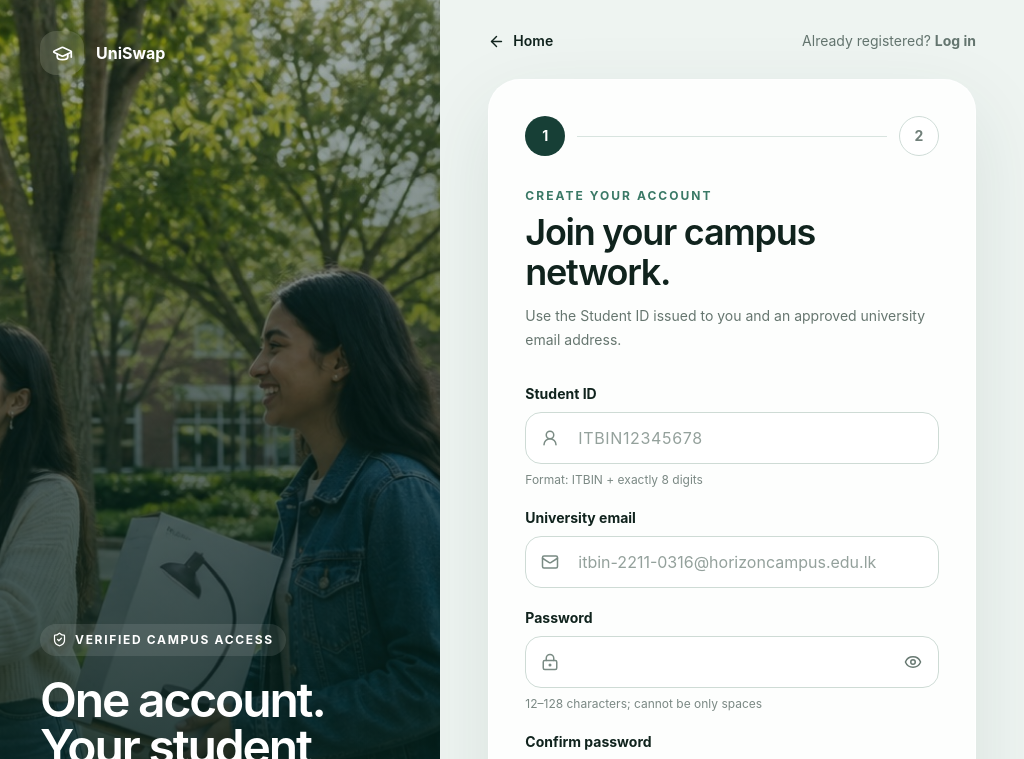
Test: UniSwap public and authentication experience › registers a valid student and transitions to email verification
This screenshot has width=1024, height=759.
Type "itbin12345678" into the field labelled "Student ID" at (732, 438), box [525,412,939,464]
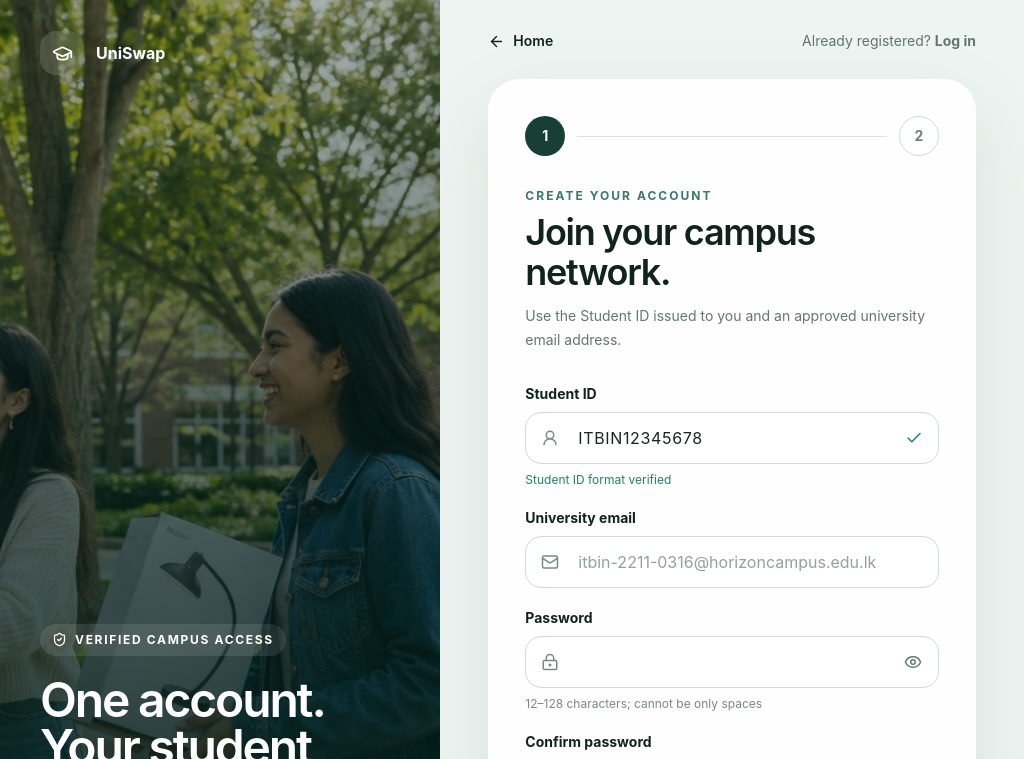
Type "student@campus.edu" into the field labelled "University email" at (732, 562), box [525,536,939,588]
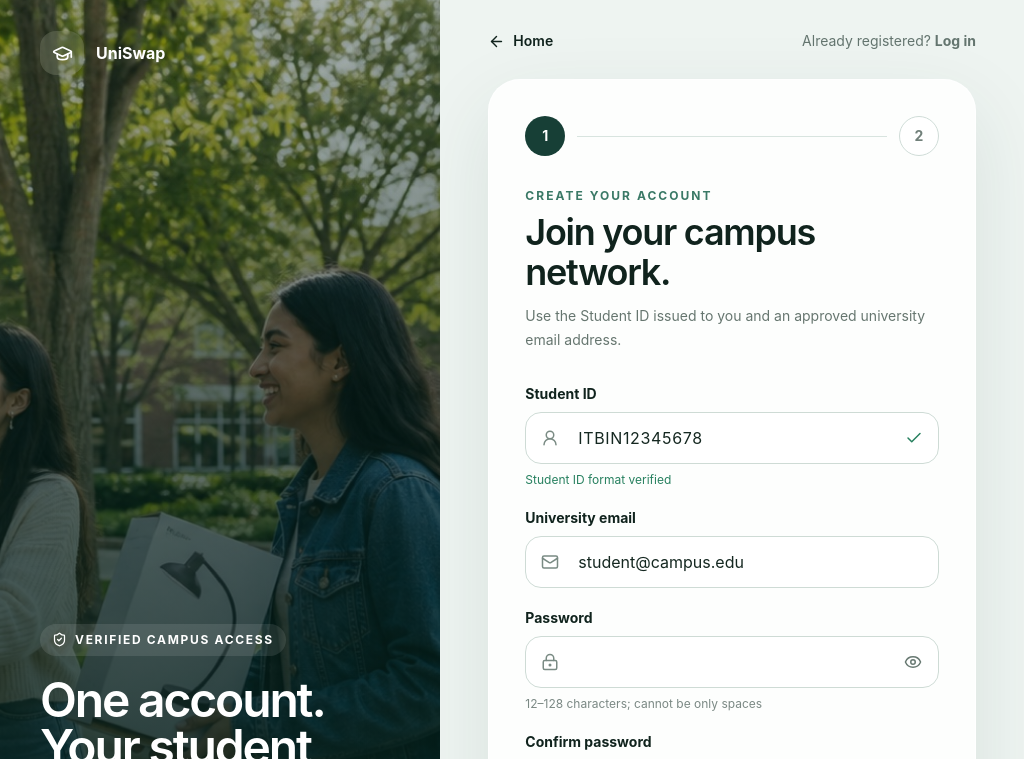
Type "Strong-password-123" into the password field labelled "Password" at (732, 662), box [525,636,939,688]
(page scrolled)
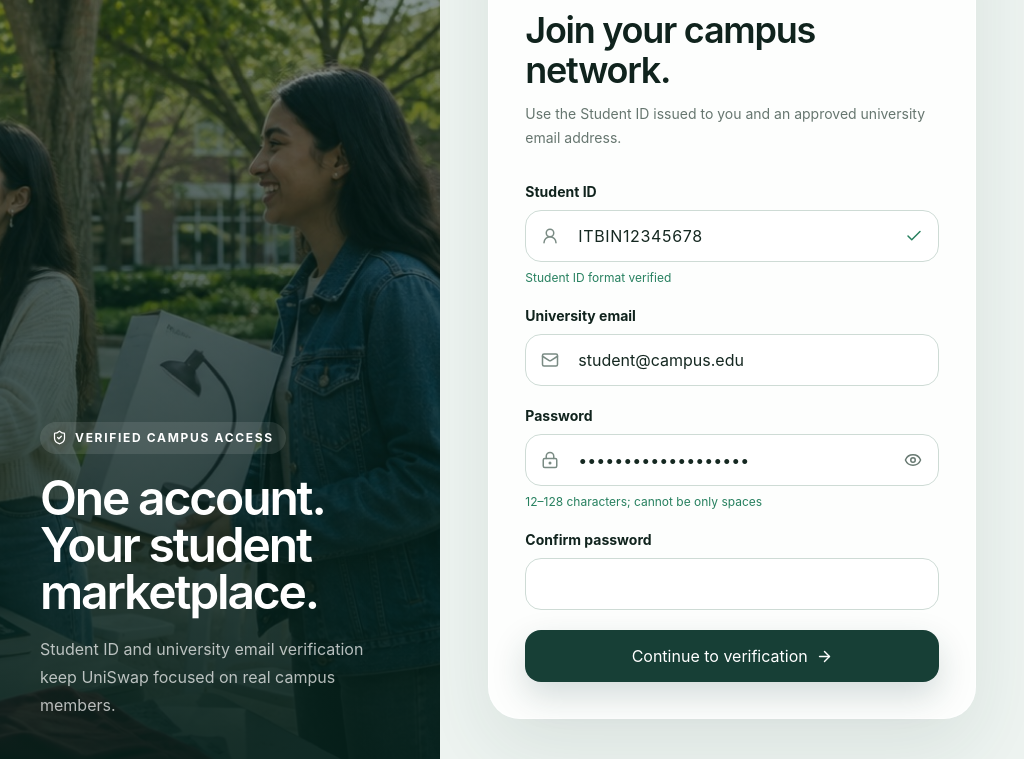
Type "Strong-password-123" into the password field labelled "Confirm password" at (732, 584), box [525,558,939,610]
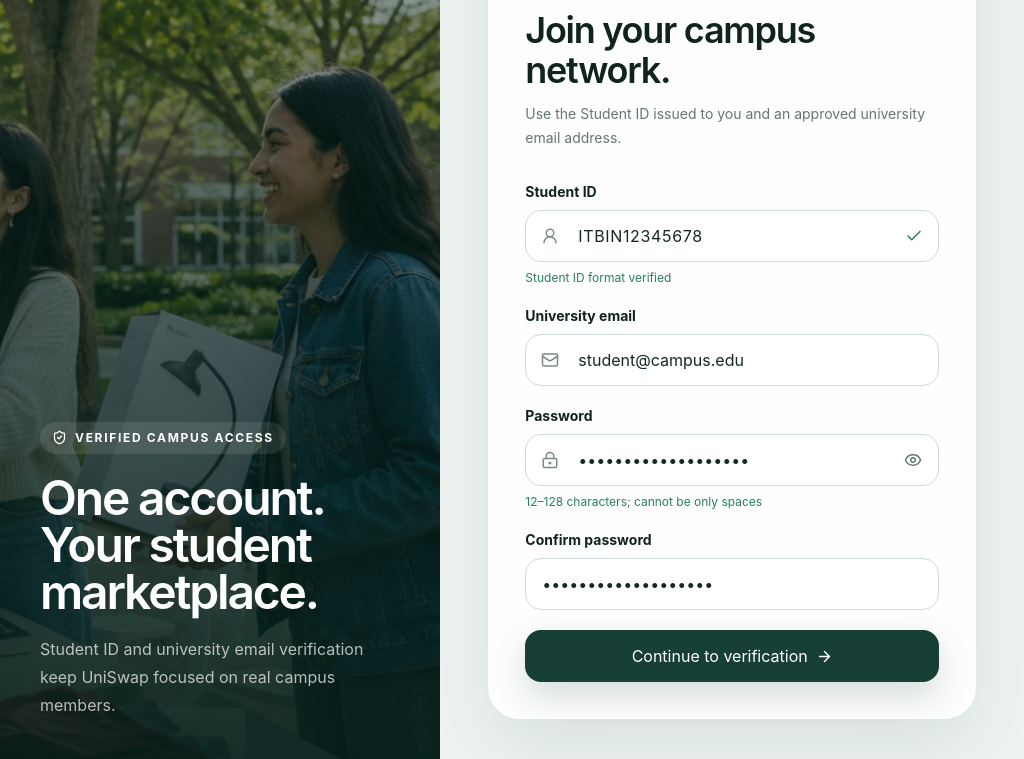
Click the button "Continue to verification" at (732, 656), box [525,630,939,682]
(page scrolled)
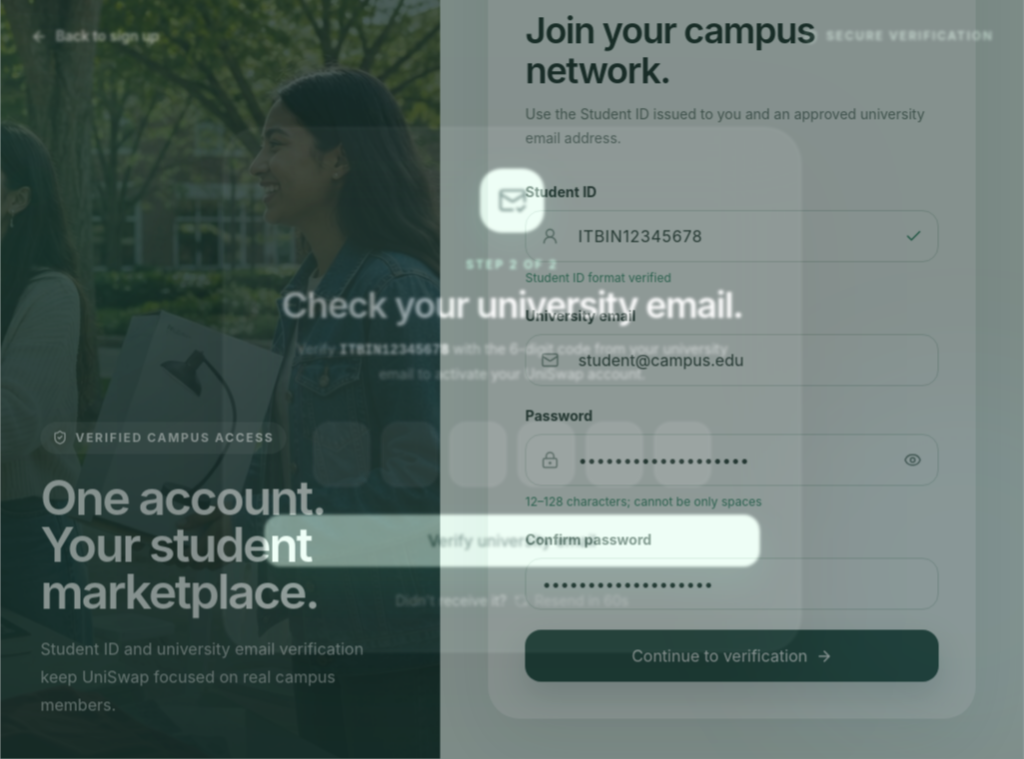
Check: the heading "Check your university email." is shown, box [265,280,759,320]
